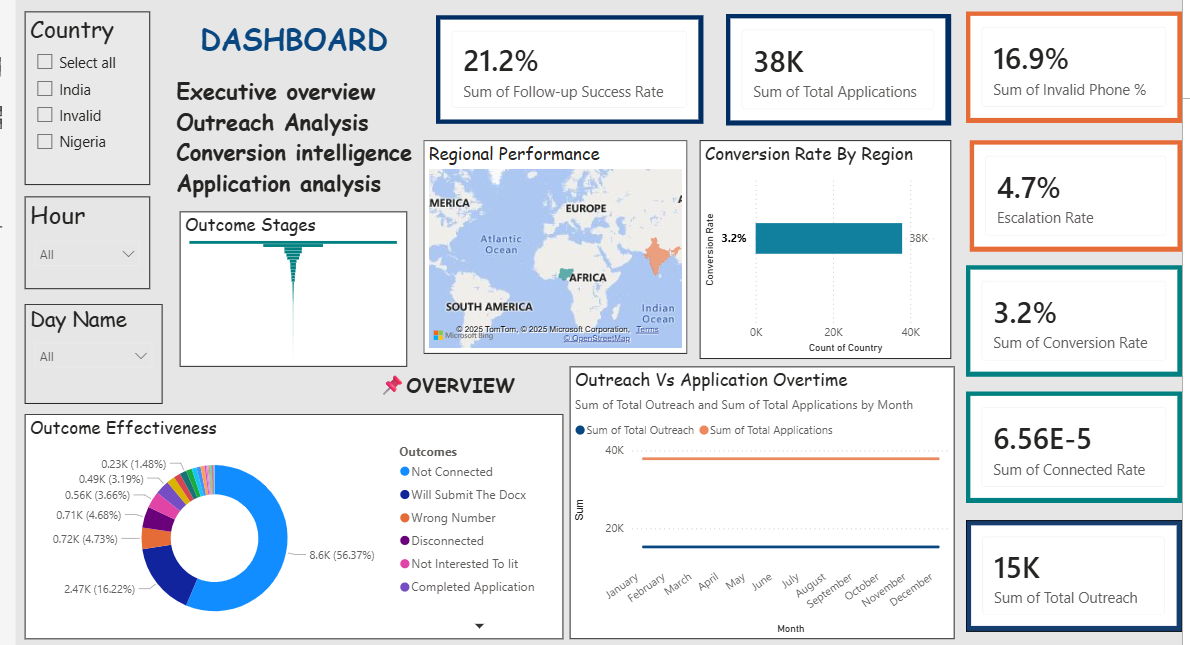

The page's visual inventory and layout, read from the dashboard file:
{"tool":"powerbi","page":{"name":"Page 1","canvas":[1280,720],"ordinal":0},"visuals":[{"type":"cardVisual","fields":{"Data":["Sum(DimUniversity.Total Outreach)"]},"box":[1042.9,577.7,237.4,122.1],"z":0},{"type":"cardVisual","fields":{"Data":["Sum(DimUniversity.Total Applications)"]},"box":[779.4,22,247,122.1],"z":1000},{"type":"cardVisual","fields":{"Data":["Sum(DimUniversity.Conversion Rate)"]},"box":[1042.9,297.8,237.4,122.1],"z":2000},{"type":"cardVisual","fields":{"Data":["Sum(DimUniversity.Follow-up Success Rate)"]},"box":[461.1,23.3,293.7,119.4],"z":3000},{"type":"cardVisual","fields":{"Data":["Sum(DimUniversity.Invalid Phone %)"]},"box":[1042.9,19.2,237.4,122.1],"z":4000},{"type":"cardVisual","fields":{"Data":["Sum(DimUniversity.Connected Rate)"]},"box":[1042.9,436.4,237.4,122.1],"z":5000},{"type":"cardVisual","fields":{"Data":["DimUniversity.Escalation Rate"]},"box":[1047,160.5,233.3,122.1],"z":6000},{"type":"filledMap","title":"Regional Performance","fields":{"Category":["Table1 (2).Country"]},"box":[447.3,160.5,289.5,234.6],"z":8000},{"type":"lineChart","title":"Outreach Vs Application Overtime","fields":{"Category":["outreach_dataset.Received_At.Variation.Date Hierarchy.Month"],"Y":["Sum(DimUniversity.Total Outreach)","Sum(DimUniversity.Total Applications)"]},"box":[607.9,408.9,422.6,299.1],"z":10000},{"type":"donutChart","title":"Outcome Effectiveness","fields":{"Category":["outreach_dataset.Outcome_1"],"Y":["CountNonNull(outreach_dataset.Outcome_1)"]},"box":[9.6,461.1,591.4,247],"z":11000},{"type":"textbox","box":[160.5,22,322.5,211.3],"z":12000},{"type":"slicer","title":"Country","fields":{"Values":["Table1 (2).Country"]},"box":[9.6,19.2,137.2,190.7],"z":12001},{"type":"slicer","title":"Hour","fields":{"Values":["outreach_dataset.Hour"]},"box":[9.6,222.3,137.2,101.5],"z":12002},{"type":"slicer","title":"Day Name ","fields":{"Values":["outreach_dataset.Day Name"]},"box":[9.6,340.3,150.9,109.8],"z":12003},{"type":"funnel","title":"Outcome Stages ","fields":{"Category":["outreach_dataset.Outcome_1"],"Y":["CountNonNull(outreach_dataset.Outcome_1)"]},"box":[179.8,238.8,249.7,170.2],"z":12004},{"type":"barChart","title":"Conversion Rate By Region ","fields":{"Category":["DimUniversity.Conversion Rate"],"Y":["CountNonNull(Table1 (2).Country)"]},"box":[750.6,160.5,275.8,240.1],"z":12005},{"type":"textbox","box":[282.7,408.9,310.1,41.2],"z":12006}]}

Visuals, with their boxes in screenshot pixels (x1, y1, x2, y2):
cardVisual - Sum(DimUniversity.Total Outreach): [964,519,1181,631]
cardVisual - Sum(DimUniversity.Total Applications): [723,11,949,123]
cardVisual - Sum(DimUniversity.Conversion Rate): [964,263,1181,375]
cardVisual - Sum(DimUniversity.Follow-up Success Rate): [431,12,700,121]
cardVisual - Sum(DimUniversity.Invalid Phone %): [964,8,1181,120]
cardVisual - Sum(DimUniversity.Connected Rate): [964,390,1181,502]
cardVisual - DimUniversity.Escalation Rate: [968,138,1181,249]
"Regional Performance" filledMap: [419,138,684,352]
"Outreach Vs Application Overtime" lineChart: [566,365,953,639]
"Outcome Effectiveness" donutChart: [18,413,559,639]
textbox: [156,11,451,204]
"Country" slicer: [18,8,144,183]
"Hour" slicer: [18,194,144,287]
"Day Name " slicer: [18,302,156,403]
"Outcome Stages " funnel: [174,209,402,365]
"Conversion Rate By Region " barChart: [696,138,949,357]
textbox: [268,365,552,403]
